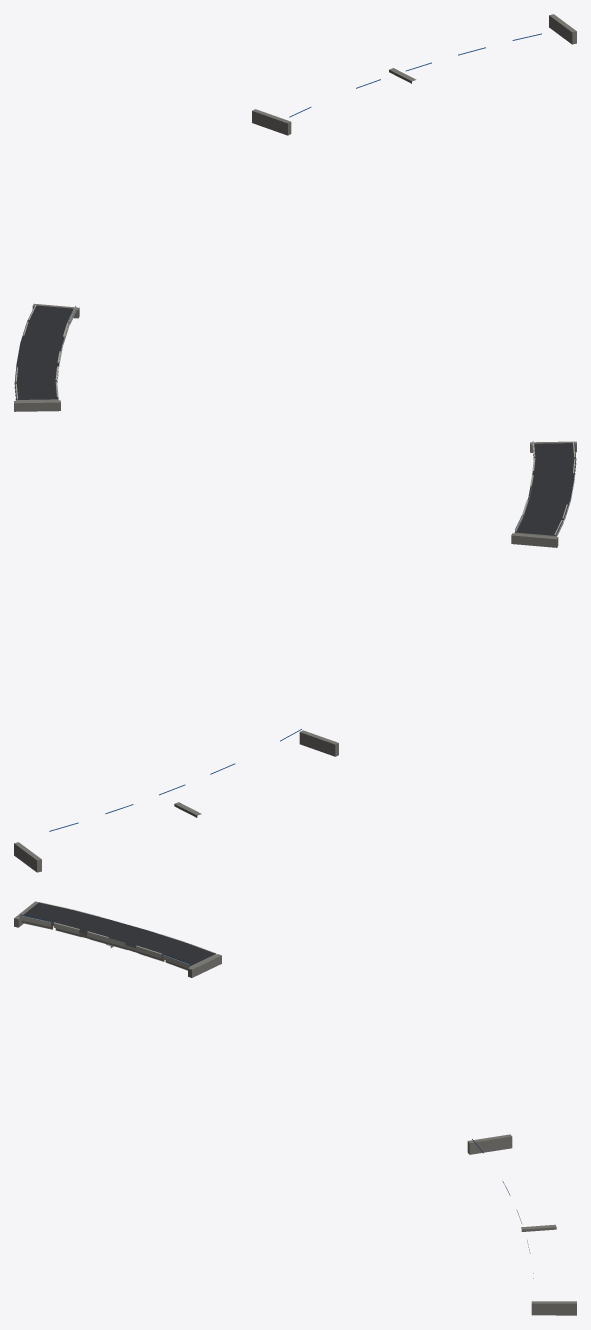
File: br_h52_sherwood_park_2_lod2.gltf
3 renders of one model, top to bottom at view 1: azimuth 30°, elevation 25°; view 2: azimuth 210°, elevation 25°; view 3: azimuth 270°, elevation 25°, orthographic. The views are drawn at different scales.
Visible parts, largest first — view 1: br_h52_sherwood_park_2_lod2; view 2: br_h52_sherwood_park_2_lod2; view 3: br_h52_sherwood_park_2_lod2.
Part boxes in pixels (x1,y1,x2,y2): br_h52_sherwood_park_2_lod2: (14, 14, 576, 411); br_h52_sherwood_park_2_lod2: (14, 441, 576, 872); br_h52_sherwood_park_2_lod2: (14, 901, 576, 1315).
Size of the model in its own units: 309 by 11.61 by 190.
